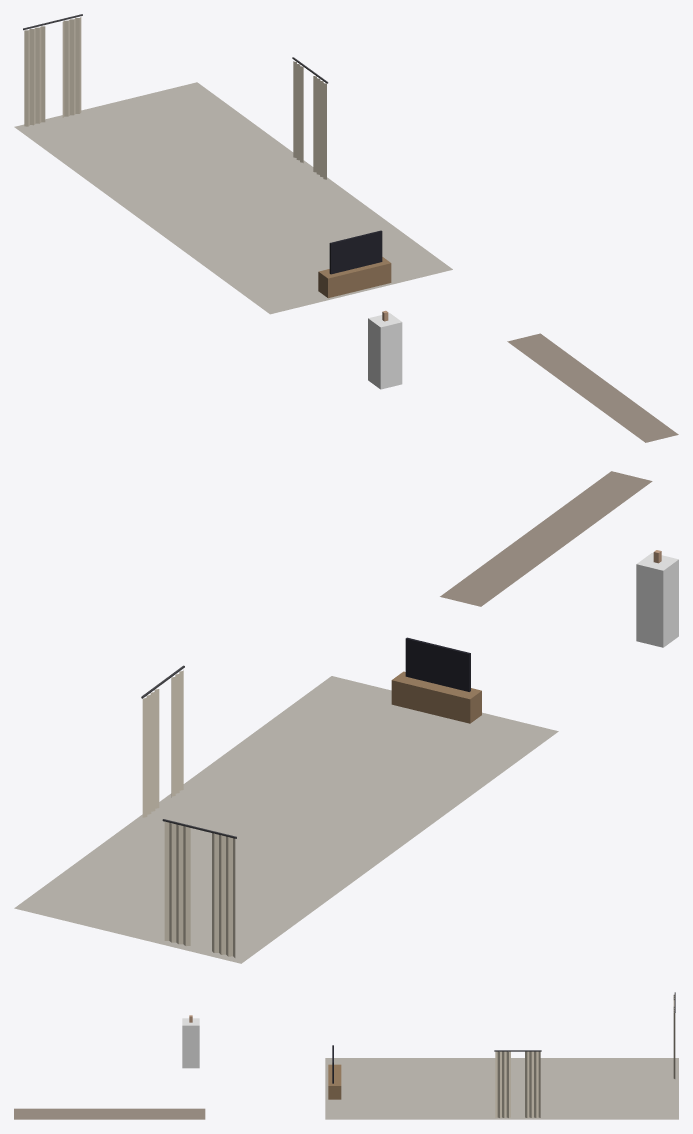
Rendered from fine-s0.glb.
3 views of the same model, one above another, from view 1: azimuth 30°, elevation 25°; view 2: azimuth 150°, elevation 25°; view 3: azimuth 270°, elevation 25° (orthographic). The views are drawn at different scales.
Visible parts, largest first — view 1: soft-s0, tv-console.000, water-heater.000; view 2: soft-s0, tv-console.000, water-heater.000; view 3: soft-s0, water-heater.000, tv-console.000.
Boxes of the visible parts, box(x1,y1,x2,y2) form: soft-s0: box(14, 14, 678, 442); tv-console.000: box(318, 230, 391, 298); water-heater.000: box(368, 310, 402, 389); soft-s0: box(14, 471, 652, 963); tv-console.000: box(391, 637, 481, 723); water-heater.000: box(636, 550, 678, 647); soft-s0: box(14, 992, 678, 1119); water-heater.000: box(182, 1015, 199, 1068); tv-console.000: box(328, 1045, 341, 1099).
Size of the model in its own units: 4.63 by 2.4 by 21.08.
